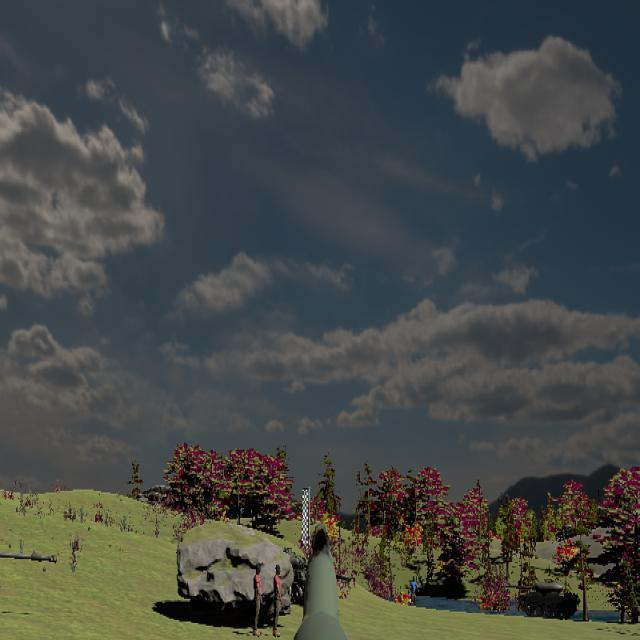Human: (272, 564, 282, 638), (253, 562, 263, 635)
Tank: (0, 529, 58, 617), (500, 578, 580, 620)
